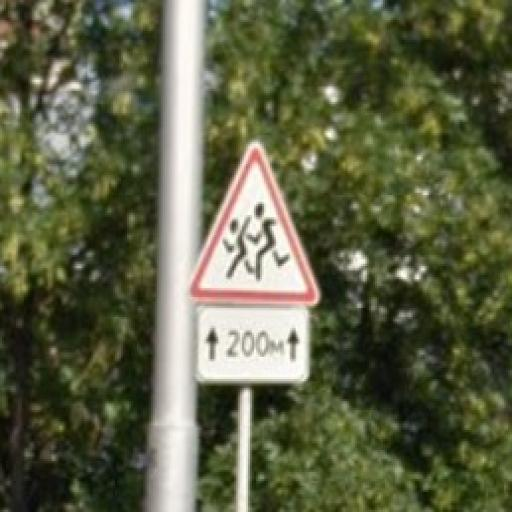traffic_sign: (184, 139, 327, 312)
